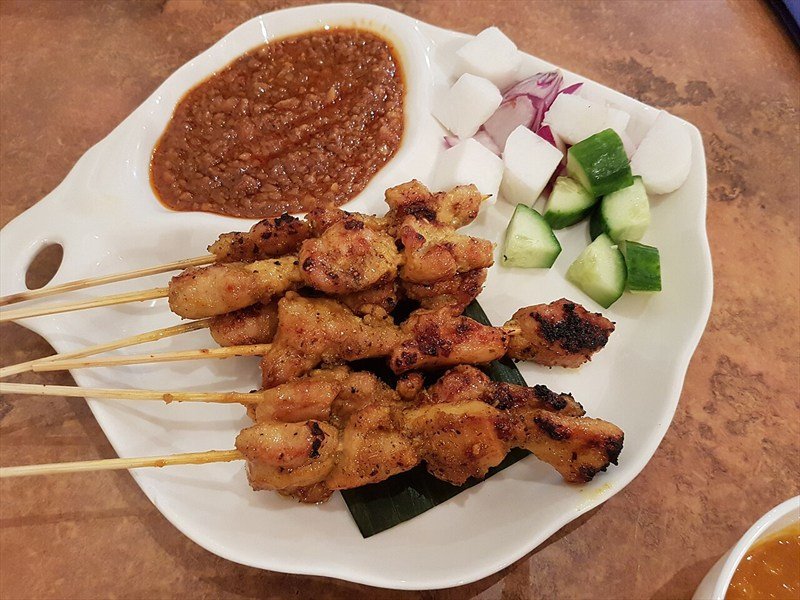Sate Ayam: (77, 59, 658, 561)
